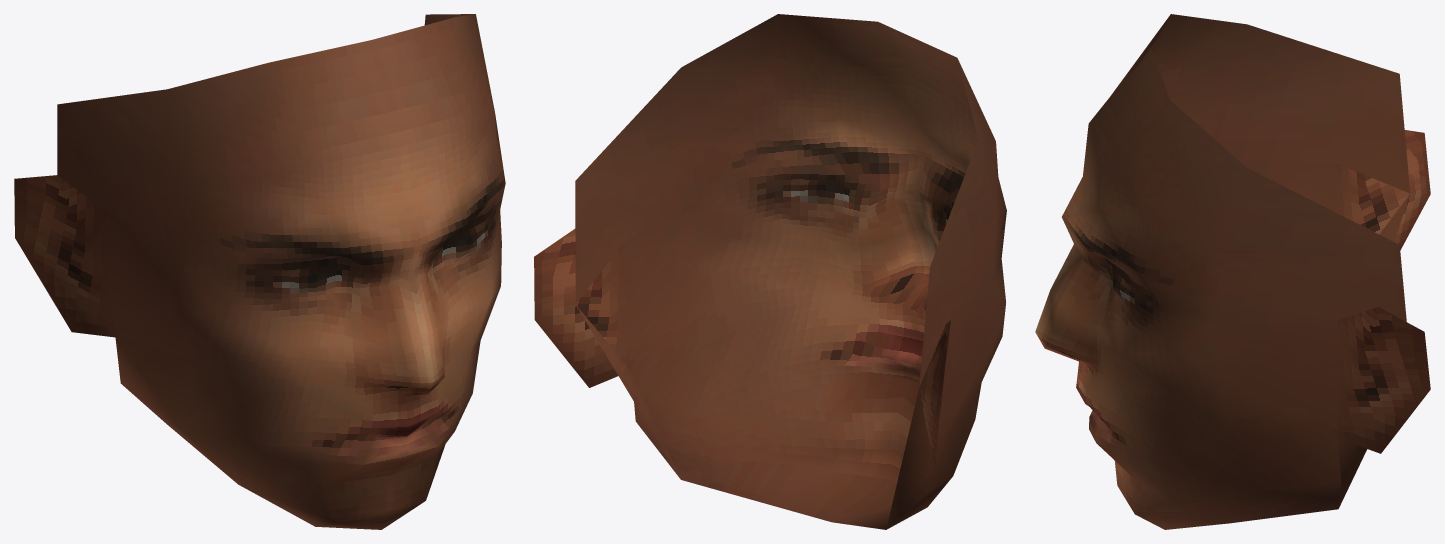
3 views of the same model, side by side, from view 1: azimuth 30°, elevation 25°; view 2: azimuth 150°, elevation 25°; view 3: azimuth 270°, elevation 25° (orthographic). The views are drawn at different scales.
Visible parts, largest first — view 1: editpl_m-0000-122, editpl_m-0000-121; view 2: editpl_m-0000-122, editpl_m-0000-121; view 3: editpl_m-0000-122, editpl_m-0000-121.
Part boxes in pixels (x1,y1,x2,y2): editpl_m-0000-122: (14, 14, 505, 446); editpl_m-0000-121: (115, 337, 472, 529); editpl_m-0000-122: (534, 14, 1006, 471); editpl_m-0000-121: (575, 265, 981, 529); editpl_m-0000-122: (1035, 14, 1430, 464); editpl_m-0000-121: (1035, 194, 1409, 529).
Bounding box in the file's own units: 17.18 × 18.71 × 14.43.
Materials: 1 (1 with a texture image).
